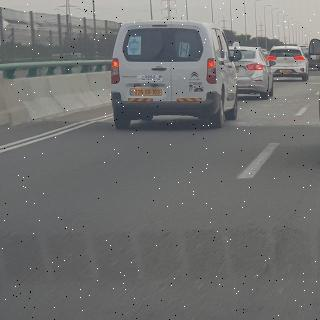LicensePlate: (134, 89, 161, 95)
